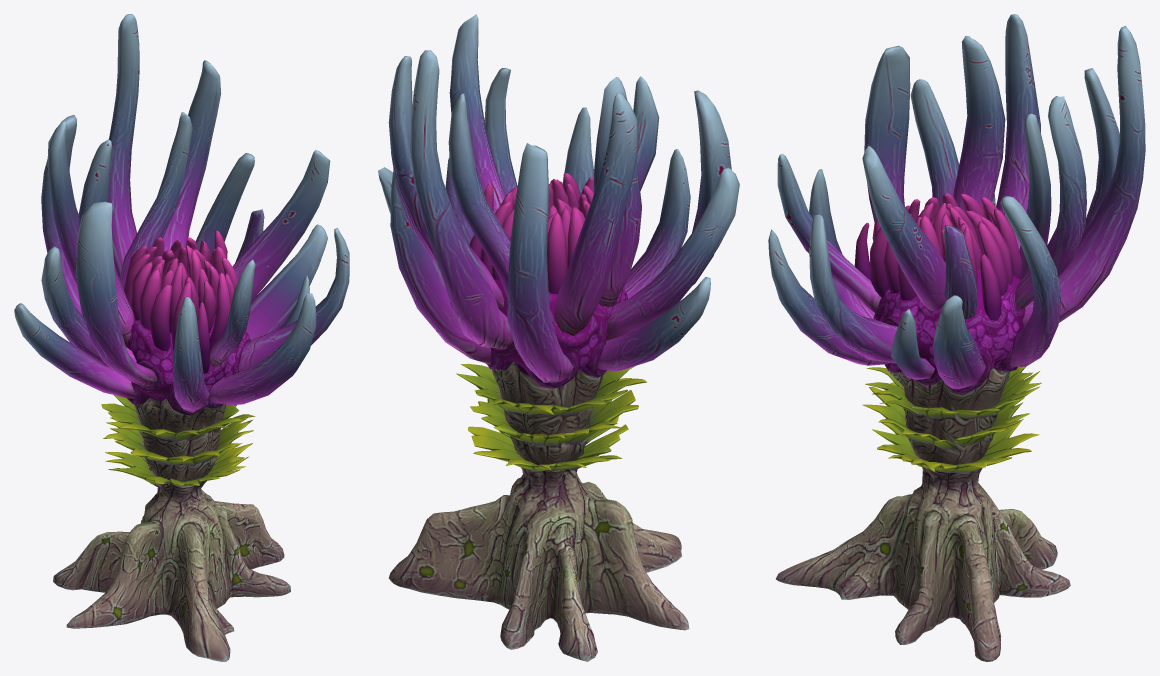
File: VegetationMedium01.fbx
3 renders of one model, left to right at view 1: azimuth 30°, elevation 25°; view 2: azimuth 150°, elevation 25°; view 3: azimuth 270°, elevation 25°, orthographic. The views are drawn at different scales.
Visible parts, largest first — view 1: VegetationMedium01_LOD00; view 2: VegetationMedium01_LOD00; view 3: VegetationMedium01_LOD00.
Part boxes in pixels (left/top/right/bottom): VegetationMedium01_LOD00: left=14, top=14, right=349, bottom=661; VegetationMedium01_LOD00: left=378, top=14, right=739, bottom=661; VegetationMedium01_LOD00: left=768, top=14, right=1145, bottom=661.
Size of what is drawn, in the model's own units: 247 by 414 by 242.
